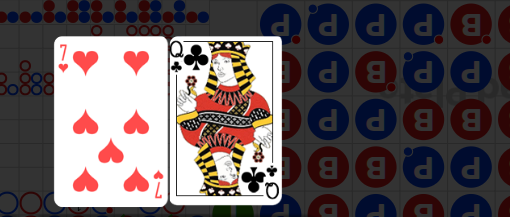7H: (151, 169, 164, 200)
QC: (171, 36, 215, 83), (238, 157, 282, 203)
